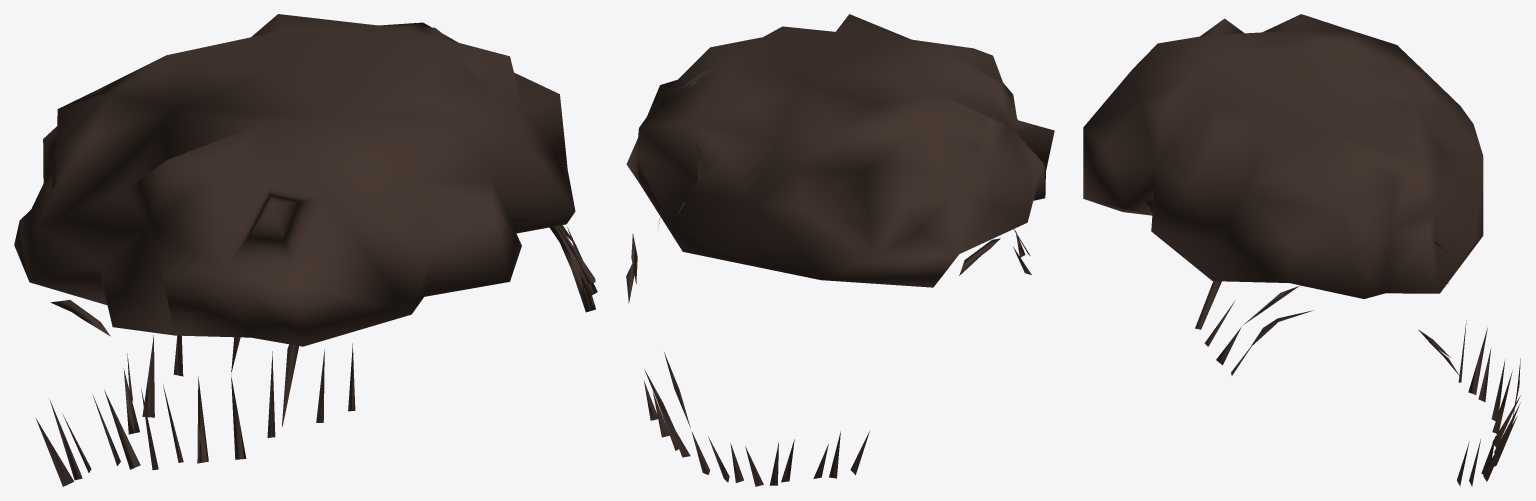
The model's file is curls.glb.
3 views of the same model, side by side, from view 1: azimuth 30°, elevation 25°; view 2: azimuth 150°, elevation 25°; view 3: azimuth 270°, elevation 25° (orthographic). The views are drawn at different scales.
Parts seen in each view (by area): view 1: Hair, HairPulledRootStrands; view 2: Hair, HairPulledRootStrands; view 3: Hair, HairPulledRootStrands.
Part boxes in pixels (box(x1,y1,x2,y2)): Hair: box(14, 14, 575, 346); HairPulledRootStrands: box(36, 225, 597, 486); Hair: box(626, 14, 1054, 287); HairPulledRootStrands: box(626, 202, 1031, 486); Hair: box(1083, 14, 1483, 298); HairPulledRootStrands: box(1195, 240, 1520, 486).
Size of the model in its own units: 0.4371 by 0.4016 by 0.4132.
